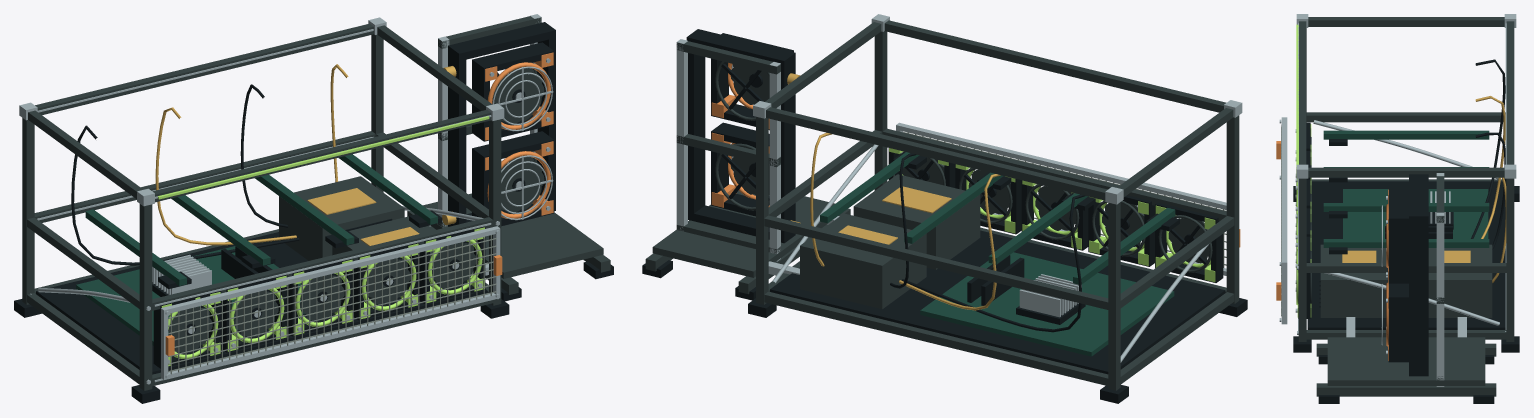
The model's file is rig-gameplay-mesh-air.glb.
3 renders of one model, left to right at view 1: azimuth 30°, elevation 25°; view 2: azimuth 150°, elevation 25°; view 3: azimuth 270°, elevation 25°, orthographic. The views are drawn at different scales.
Parts seen in each view (by area): view 1: Anodized graphite (×9), Rubber and ABS (×9), Brushed aluminium (×5), Filter fibres, Circuit board, Lime accents (×5), Industrial orange (×2), Contacts, rig-gameplay-mesh-air, slot-cable-1, slot-cable-2, slot-cable-3; view 2: Anodized graphite (×7), Rubber and ABS (×8), Circuit board, Brushed aluminium (×3), Contacts, Lime accents (×2), slot-cable-1, slot-cable-2, Industrial orange, Filter fibres; view 3: Anodized graphite (×2), Rubber and ABS (×6), Circuit board, Brushed aluminium (×3), Contacts, slot-cable-1, slot-cable-2, rig-gameplay-mesh-air, slot-cable-3, slot-cable-4, Lime accents.
Boxes of the visible parts, left/top/right/bottom form: Anodized graphite (×9): left=22, top=16, right=610, bottom=390; Rubber and ABS (×9): left=14, top=22, right=555, bottom=403; Brushed aluminium (×5): left=19, top=14, right=553, bottom=384; Filter fibres: left=168, top=235, right=496, bottom=374; Circuit board: left=76, top=154, right=437, bottom=345; Lime accents (×5): left=161, top=227, right=484, bottom=366; Industrial orange (×2): left=485, top=52, right=553, bottom=218; Contacts: left=307, top=188, right=419, bottom=246; rig-gameplay-mesh-air: left=158, top=116, right=489, bottom=199; slot-cable-1: left=71, top=125, right=299, bottom=265; slot-cable-2: left=155, top=107, right=296, bottom=245; slot-cable-3: left=240, top=84, right=287, bottom=227; Anodized graphite (×7): left=645, top=20, right=1239, bottom=390; Rubber and ABS (×8): left=686, top=29, right=1247, bottom=403; Circuit board: left=820, top=152, right=1175, bottom=356; Brushed aluminium (×3): left=676, top=14, right=1242, bottom=362; Contacts: left=838, top=186, right=951, bottom=244; Lime accents (×2): left=1089, top=196, right=1215, bottom=282; slot-cable-1: left=901, top=194, right=1084, bottom=332; slot-cable-2: left=899, top=174, right=1000, bottom=310; Industrial orange: left=711, top=132, right=769, bottom=207; Filter fibres: left=903, top=132, right=1226, bottom=267; Anodized graphite (×2): left=1298, top=17, right=1514, bottom=396; Rubber and ABS (×6): left=1293, top=139, right=1519, bottom=403; Circuit board: left=1323, top=130, right=1489, bottom=247; Brushed aluminium (×3): left=1281, top=14, right=1516, bottom=386; Contacts: left=1342, top=250, right=1470, bottom=262; slot-cable-1: left=1471, top=59, right=1505, bottom=238; slot-cable-2: left=1475, top=96, right=1505, bottom=238; rig-gameplay-mesh-air: left=1296, top=24, right=1298, bottom=168; slot-cable-3: left=1475, top=132, right=1506, bottom=249; slot-cable-4: left=1492, top=177, right=1506, bottom=282; Lime accents: left=1296, top=238, right=1311, bottom=317.
Bounding box in the file's own units: 8.02 × 3.32 × 3.94.
